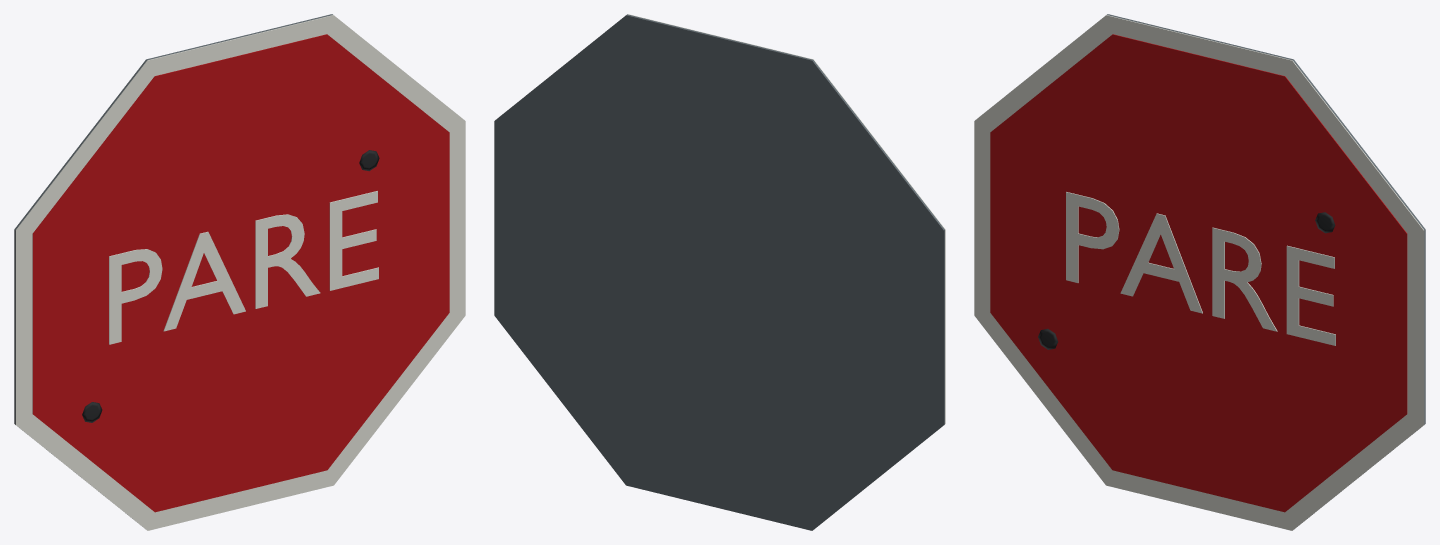
Rendered from PlacaPare.fbx.
3 renders of one model, left to right at view 1: azimuth 30°, elevation 25°; view 2: azimuth 150°, elevation 25°; view 3: azimuth 330°, elevation 25°, orthographic.
Visible parts, largest first — view 1: PlacaPare; view 2: PlacaPare; view 3: PlacaPare.
Part boxes in pixels (left/top/right/bottom): PlacaPare: left=14, top=14, right=465, bottom=530; PlacaPare: left=494, top=14, right=945, bottom=530; PlacaPare: left=974, top=14, right=1425, bottom=530.
Size of the model in its own units: 0.6 by 0.6 by 0.0072.
